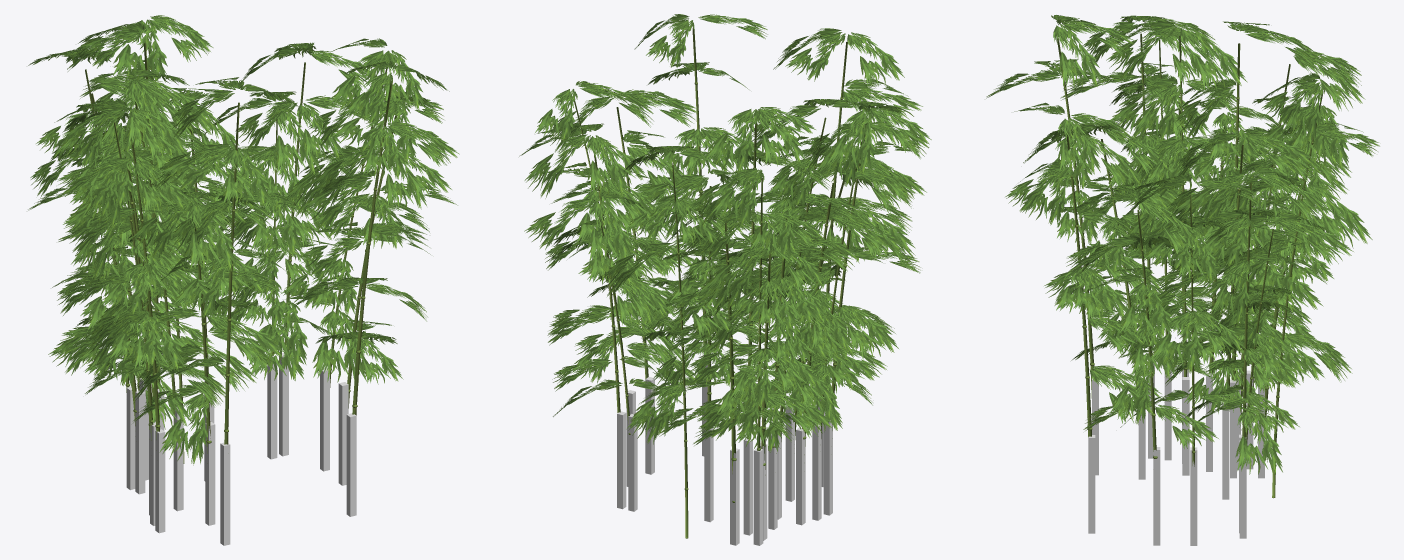
The model's file is bamboo_grove.glb.
3 renders of one model, left to right at view 1: azimuth 30°, elevation 25°; view 2: azimuth 150°, elevation 25°; view 3: azimuth 270°, elevation 25°, orthographic. The views are drawn at different scales.
Parts seen in each view (by area): view 1: BambooSprays, BambooCulms, Culm-convcolonly.001, Culm-convcolonly.012, Culm-convcolonly.006, Culm-convcolonly.011, Culm-convcolonly.004, Culm-convcolonly.014, Culm-convcolonly.007, Culm-convcolonly.015, Culm-convcolonly.016, Culm-convcolonly.009 (+2 smaller); view 2: BambooSprays, BambooCulms, Culm-convcolonly.016, Culm-convcolonly.009, Culm-convcolonly.017, Culm-convcolonly.002, Culm-convcolonly.013, Culm-convcolonly.008, Culm-convcolonly.006, Culm-convcolonly.007, Culm-convcolonly.010, Culm-convcolonly.004 (+2 smaller); view 3: BambooSprays, BambooCulms, Culm-convcolonly.001, Culm-convcolonly.015, Culm-convcolonly.014, Culm-convcolonly.010, Culm-convcolonly.003, Culm-convcolonly.009, Culm-convcolonly.013, Culm-convcolonly.017, Culm-convcolonly.005, Culm-convcolonly.004.
Boxes of the visible parts, x1,y1,x2,y2 form: BambooSprays: (28,15,459,465); BambooCulms: (85,43,396,463); Culm-convcolonly.001: (346,413,356,516); Culm-convcolonly.012: (220,442,230,545); Culm-convcolonly.006: (155,429,165,533); Culm-convcolonly.011: (135,391,145,494); Culm-convcolonly.004: (205,422,215,525); Culm-convcolonly.014: (320,368,329,471); Culm-convcolonly.007: (267,355,277,459); Culm-convcolonly.015: (338,382,348,485); Culm-convcolonly.016: (126,386,135,489); Culm-convcolonly.009: (279,353,288,456); BambooSprays: (519,14,931,452); BambooCulms: (574,28,867,538); Culm-convcolonly.016: (753,448,763,545); Culm-convcolonly.009: (617,411,626,509); Culm-convcolonly.017: (743,438,752,535); Culm-convcolonly.002: (796,427,805,525); Culm-convcolonly.013: (812,423,821,520); Culm-convcolonly.008: (730,448,739,545); Culm-convcolonly.006: (823,420,832,515); Culm-convcolonly.007: (628,414,637,511); Culm-convcolonly.010: (704,428,713,522); Culm-convcolonly.004: (785,406,794,501); BambooSprays: (986,15,1379,474); BambooCulms: (1057,33,1323,498); Culm-convcolonly.001: (1088,435,1095,533); Culm-convcolonly.015: (1153,447,1160,545); Culm-convcolonly.014: (1190,447,1197,545); Culm-convcolonly.010: (1222,402,1229,499); Culm-convcolonly.003: (1182,377,1189,475); Culm-convcolonly.009: (1239,440,1246,538); Culm-convcolonly.013: (1164,365,1171,460); Culm-convcolonly.017: (1230,379,1236,478); Culm-convcolonly.005: (1206,373,1212,471); Culm-convcolonly.004: (1138,386,1145,479).
Size of what is drawn, in the model's own units: 13.28 by 14.09 by 11.9.
Materials: 2 (2 with a texture image).
